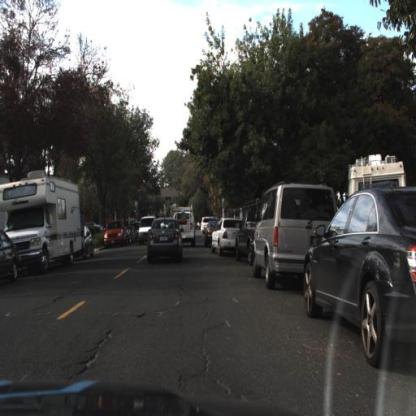car: (303, 185, 416, 370), (252, 183, 340, 290), (3, 173, 86, 271), (347, 153, 411, 196), (146, 216, 184, 264), (236, 199, 259, 267), (170, 199, 198, 253), (211, 216, 243, 258), (80, 222, 98, 265), (102, 221, 127, 251), (137, 211, 154, 248), (203, 219, 217, 250)
truck: (1, 176, 82, 267), (346, 157, 412, 196), (169, 205, 197, 246)
